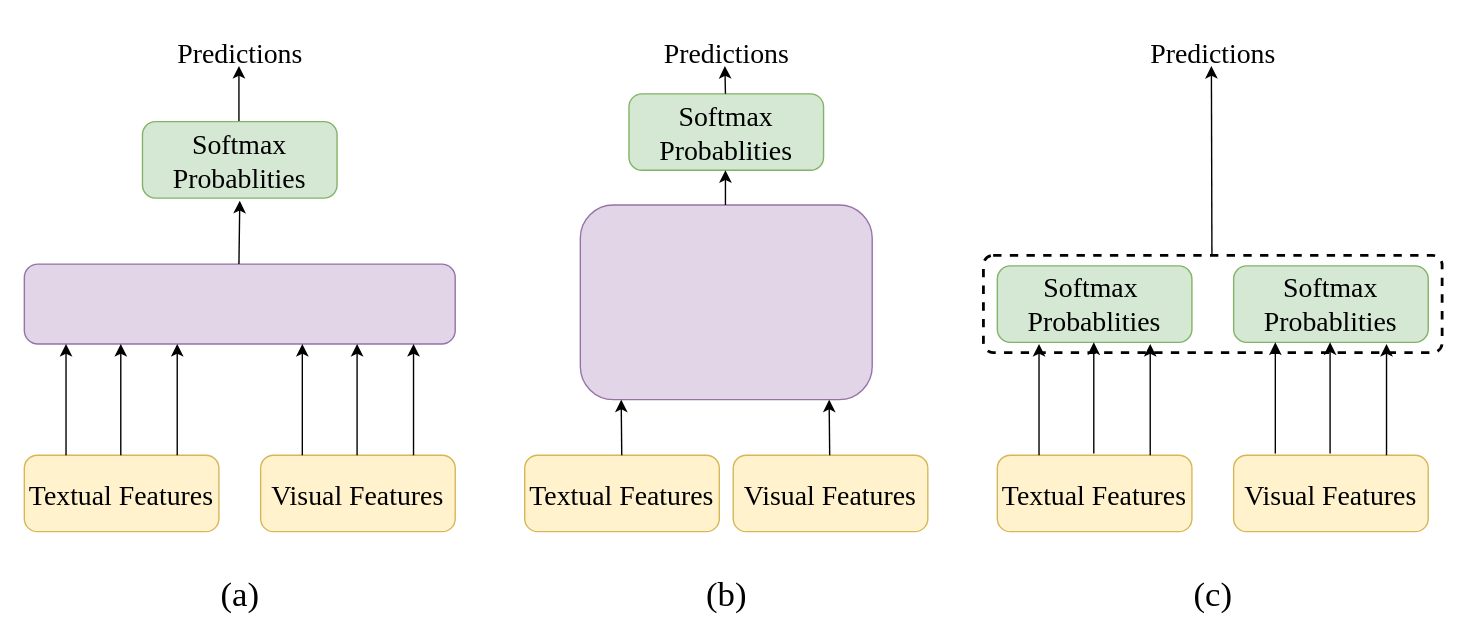
Some shapes in this 1468 by 638 pixel diagram are drawn without their labels. Each missing label, with the centre of its shape:
Concatenated Features: the point at 239,303
Gated Multimodal Unit (GMU): the point at 725,302
